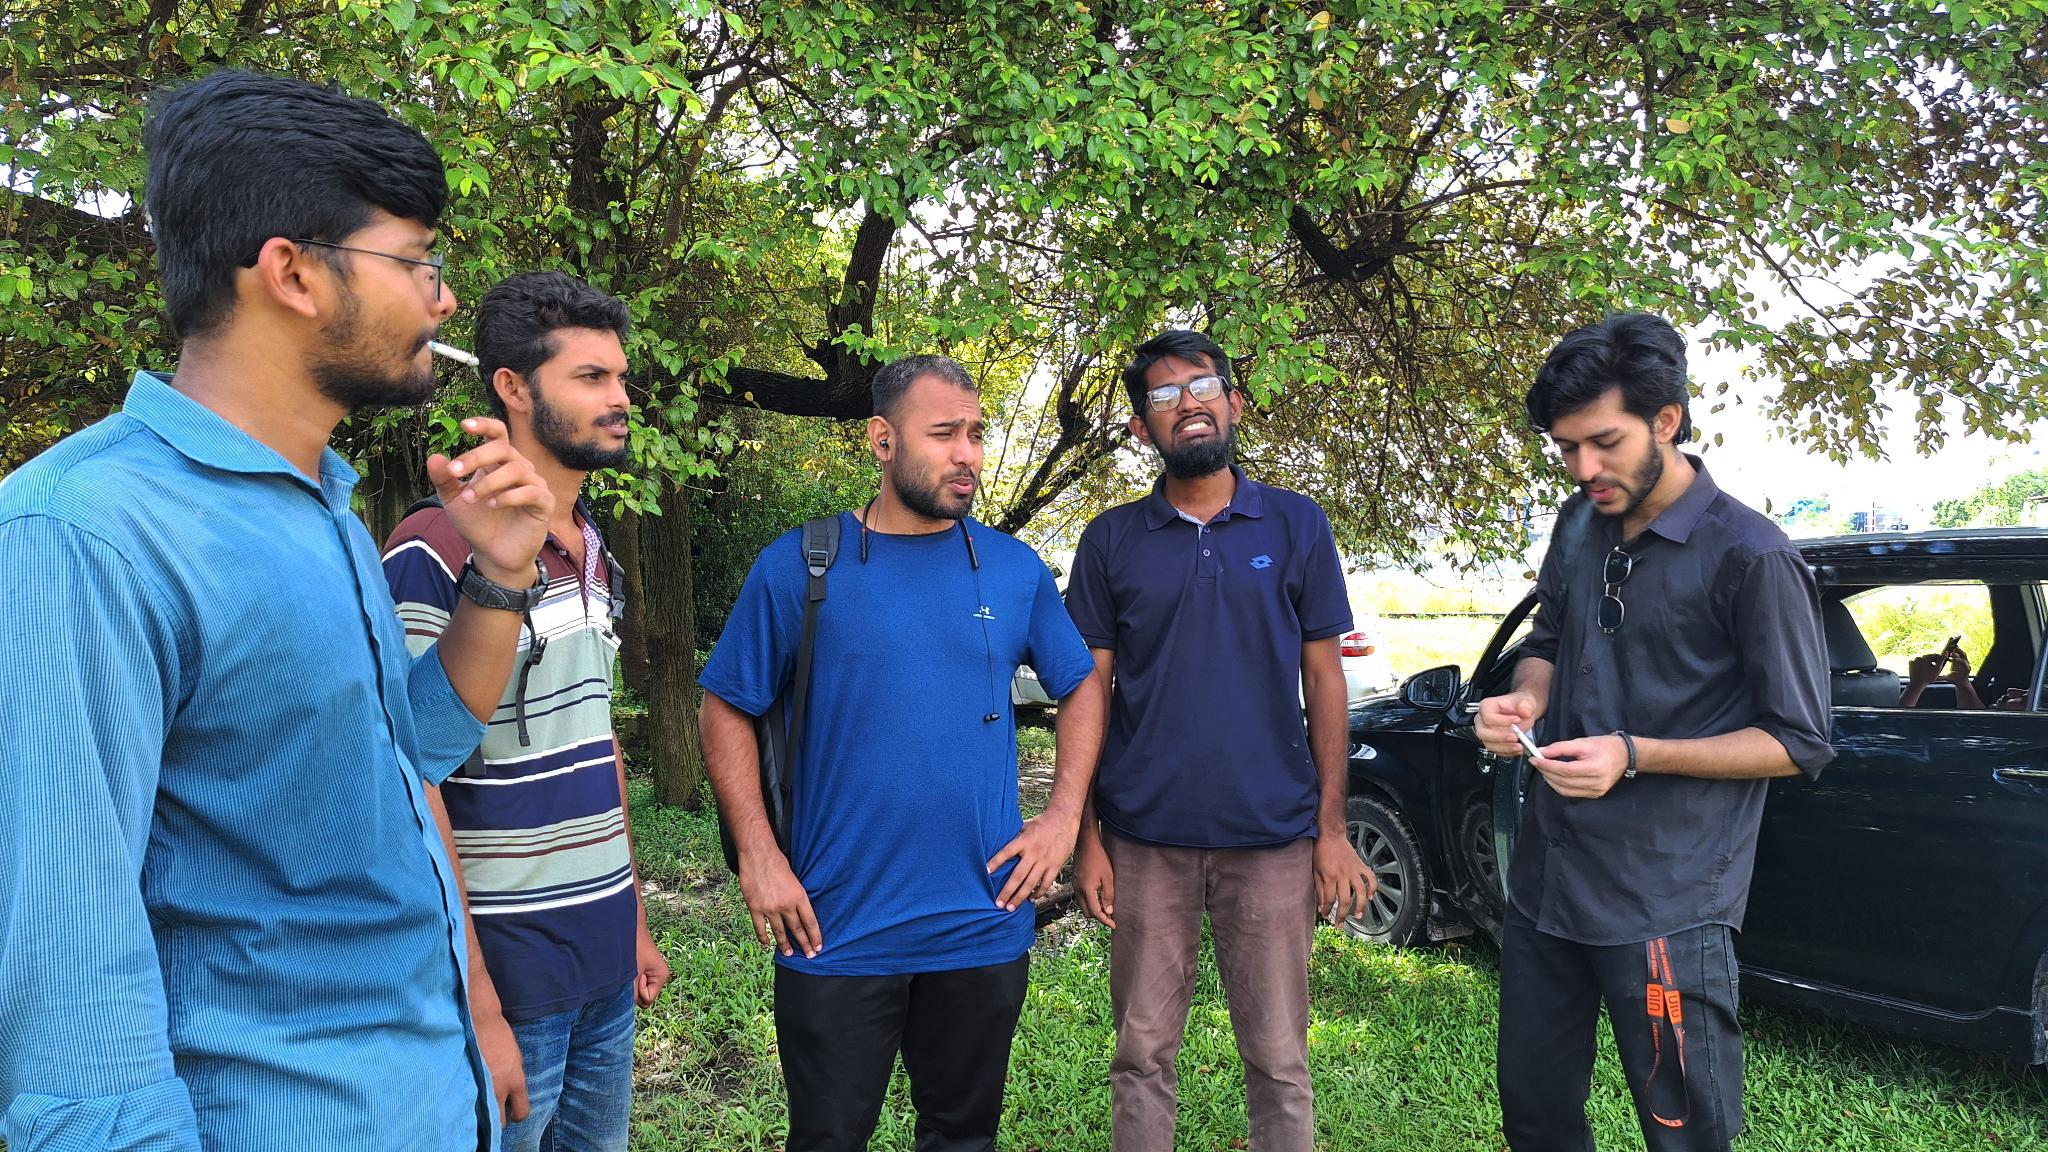cigarette: (422, 336, 482, 370), (1508, 723, 1547, 764)
nonSmoker: (693, 333, 1106, 1152), (1068, 324, 1378, 1152), (390, 269, 672, 1152)
smoker: (0, 75, 549, 1152), (1464, 314, 1831, 1152)
